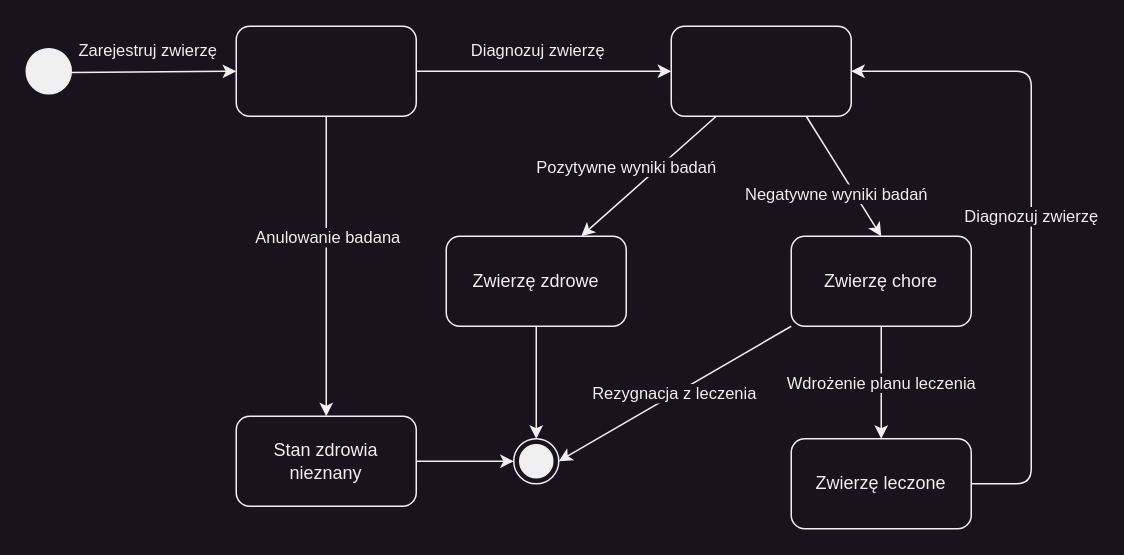
The diagram is 1124 pixels wide and 555 high, and some of its shapes have lost their labels. The shapes that lost their labels are listed below. From the top down, each one's centre as x and y in pixels, then its label:
point 325,70: Zwierzę zarejestrowane
point 760,70: Oczekiwanie na wyniki
